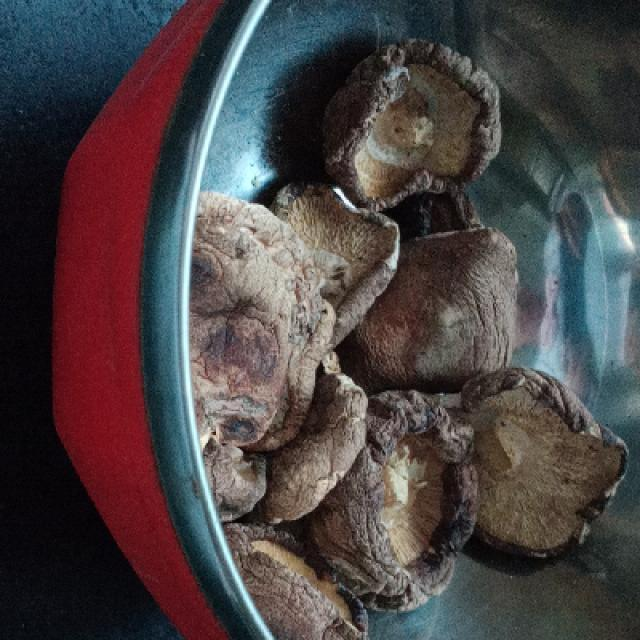Lentinus edodes: (195, 178, 334, 454), (462, 373, 633, 573), (338, 389, 486, 613), (319, 43, 504, 209), (378, 229, 517, 390), (270, 180, 402, 348), (226, 520, 369, 640)
